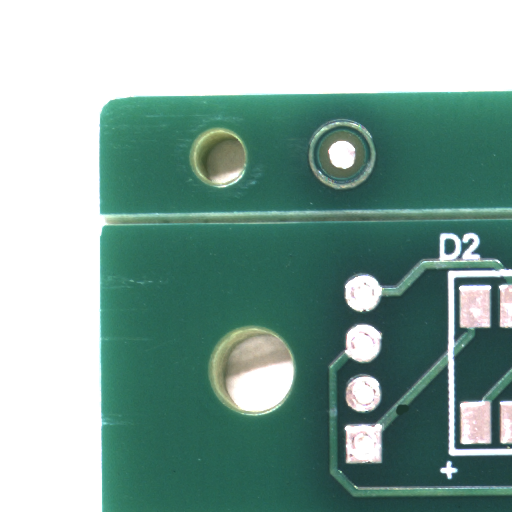Mouse_bite: (402, 410, 416, 421)
